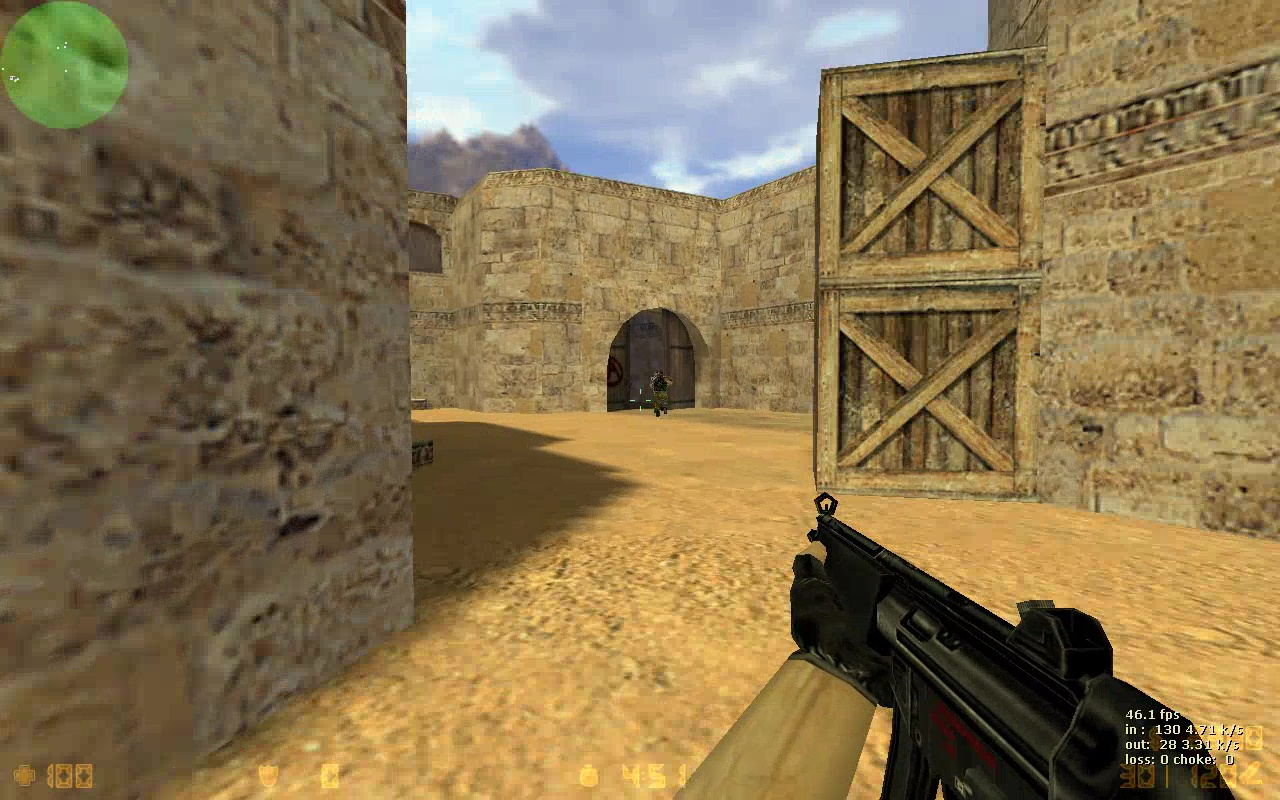terr1: (652, 368, 671, 413)
